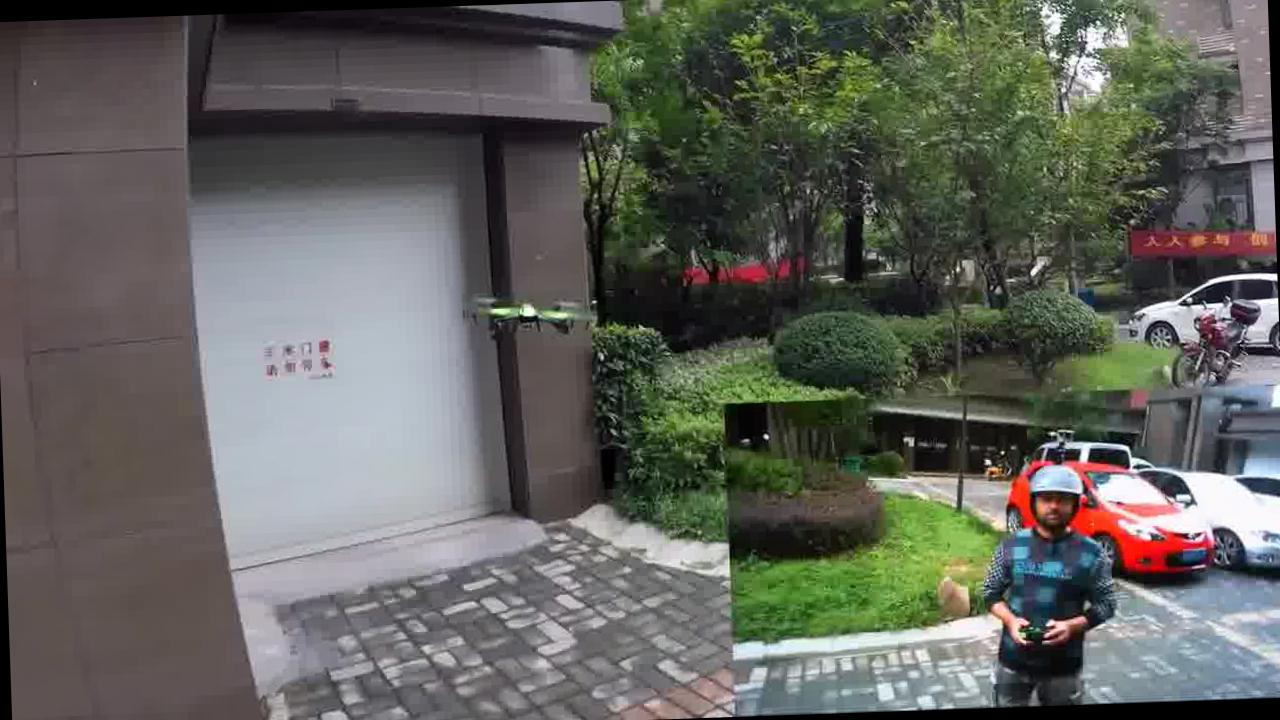drone: (448, 286, 614, 360)
